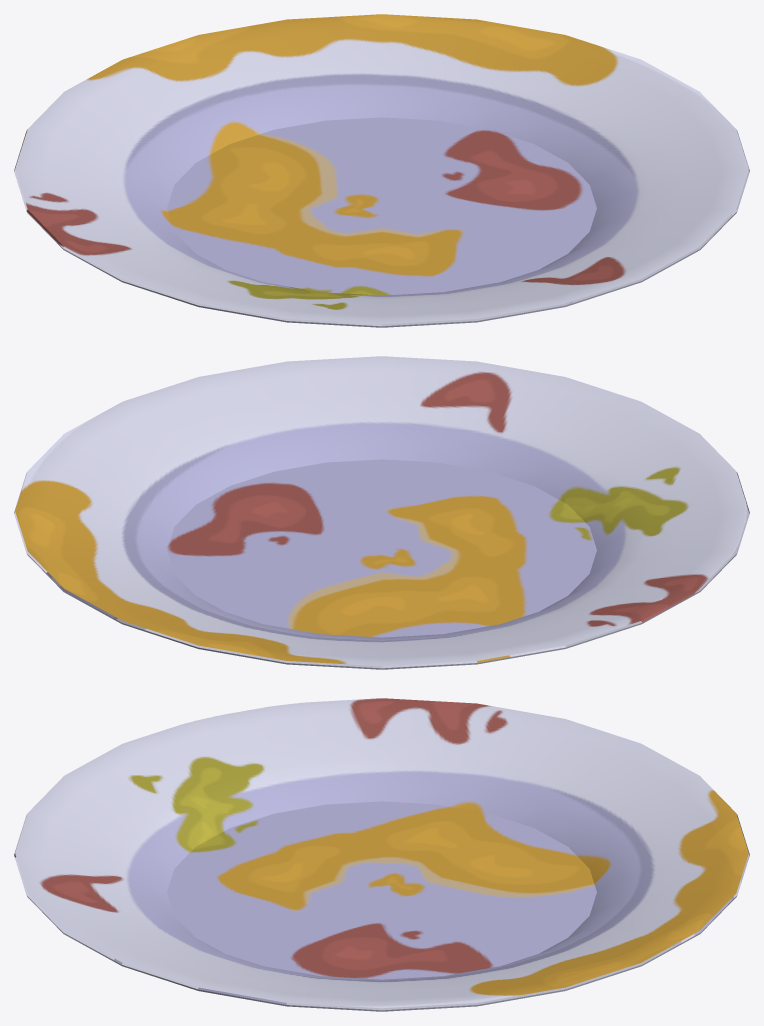
File: piring kotor v2.fbx
3 renders of one model, top to bottom at view 1: azimuth 30°, elevation 25°; view 2: azimuth 150°, elevation 25°; view 3: azimuth 270°, elevation 25°, orthographic.
Parts seen in each view (by area): view 1: Plate; view 2: Plate; view 3: Plate.
Part boxes in pixels (x1=…): Plate: x1=14, y1=14, x2=749, y2=327; Plate: x1=14, y1=356, x2=749, y2=669; Plate: x1=14, y1=698, x2=749, y2=1011.
Bounding box in the file's own units: 26.75 × 1.98 × 26.75.
